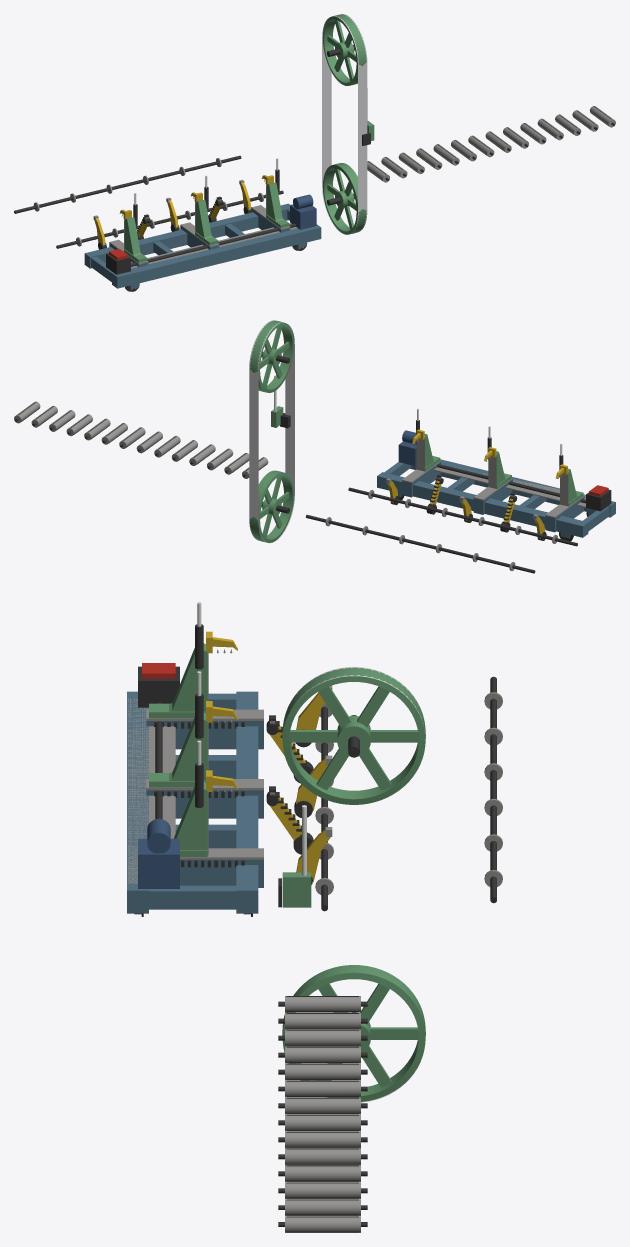
The model's file is headrig_parts.glb.
3 views of the same model, one above another, from view 1: azimuth 30°, elevation 25°; view 2: azimuth 150°, elevation 25°; view 3: azimuth 270°, elevation 25° (orthographic). The views are drawn at different scales.
Parts seen in each view (by area): view 1: HR_CarriageMesh, HR_Band, HR_UpperWheelMesh, HR_LowerWheelMesh, HR_DeckTailMesh, HR_DeckHeadMesh, HR_Knee2Mesh, HR_Knee3Mesh, HR_Knee1Mesh; view 2: HR_CarriageMesh, HR_Band, HR_UpperWheelMesh, HR_LowerWheelMesh, HR_DeckTailMesh, HR_DeckHeadMesh, HR_Knee2Mesh, HR_Knee3Mesh, HR_Knee1Mesh, HR_UpperGuideMesh; view 3: HR_CarriageMesh, HR_UpperWheelMesh, HR_LowerWheelMesh, HR_DeckTailMesh, HR_Knee1Mesh, HR_Knee2Mesh, HR_Knee3Mesh, HR_UpperGuideMesh, HR_DeckHeadMesh, HR_OutRoll3Mesh, HR_OutRoll4Mesh, HR_OutRoll5Mesh (+12 smaller).
Part boxes in pixels (x1,y1,x2,y2): HR_CarriageMesh: (84,194,321,289); HR_Band: (322,14,367,234); HR_UpperWheelMesh: (323,14,366,85); HR_LowerWheelMesh: (323,163,366,234); HR_DeckTailMesh: (14,155,241,213); HR_DeckHeadMesh: (56,190,283,248); HR_Knee2Mesh: (195,186,218,245); HR_Knee3Mesh: (266,169,289,228); HR_Knee1Mesh: (124,204,147,262); HR_CarriageMesh: (377,430,615,538); HR_Band: (249,320,294,543); HR_UpperWheelMesh: (250,320,293,392); HR_LowerWheelMesh: (250,470,293,542); HR_DeckTailMesh: (306,515,535,573); HR_DeckHeadMesh: (348,487,577,546); HR_Knee2Mesh: (487,437,511,488); HR_Knee3Mesh: (416,420,440,471); HR_Knee1Mesh: (559,455,583,506); HR_UpperGuideMesh: (271,375,290,428); HR_CarriageMesh: (127,663,263,913); HR_UpperWheelMesh: (282,667,425,804); HR_LowerWheelMesh: (282,965,425,1101); HR_DeckTailMesh: (484,676,502,903); HR_Knee1Mesh: (149,624,208,718); HR_Knee2Mesh: (149,693,208,787); HR_Knee3Mesh: (174,763,208,856); HR_UpperGuideMesh: (278,805,311,907); HR_DeckHeadMesh: (315,703,333,911); HR_OutRoll3Mesh: (278,1029,367,1046); HR_OutRoll4Mesh: (278,1046,367,1063); HR_OutRoll5Mesh: (278,1063,367,1080).
Bounding box in the file's own units: 15.07 × 5.61 × 4.47.
